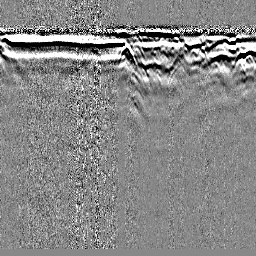cavity: (116, 41, 137, 65)
